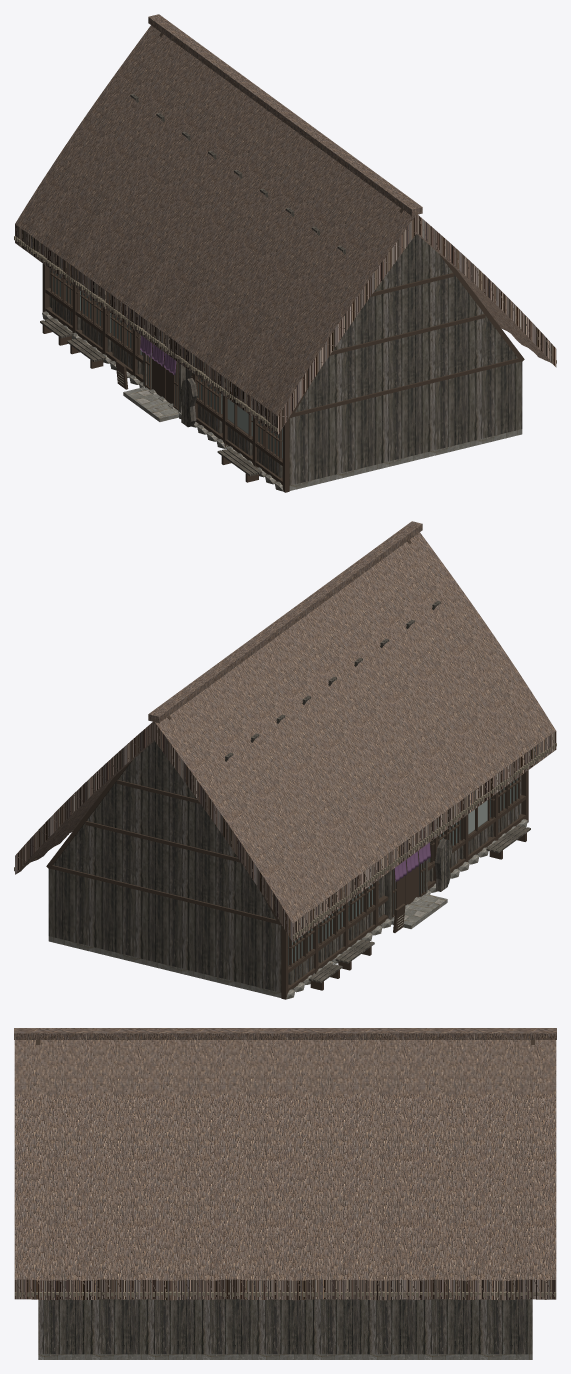
File: hakusuien.glb
The picture shows the model from 3 angles, top to bottom: view 1: azimuth 30°, elevation 25°; view 2: azimuth 150°, elevation 25°; view 3: azimuth 270°, elevation 25°; orthographic projection. The views are drawn at different scales.
Visible parts, largest first — view 1: B001_Bound kaya reeds.040, B001_Smoke-aged cedar.040, B001_Dark structural timber.040, B001_Hakusuien warm cedar infill.002, B001_Foundation granite.040, B001_Weathered cut reed ends.002, B001_Hakusuien dark recessed glazing.002; view 2: B001_Bound kaya reeds.040, B001_Smoke-aged cedar.040, B001_Dark structural timber.040, B001_Hakusuien warm cedar infill.002, B001_Foundation granite.040, B001_Weathered cut reed ends.002, B001_Hakusuien dark recessed glazing.002; view 3: B001_Bound kaya reeds.040, B001_Smoke-aged cedar.040, B001_Foundation granite.040, B001_Weathered cut reed ends.002.
Boxes of the visible parts, bbox=[...] form: B001_Bound kaya reeds.040: bbox=[15, 14, 556, 434]; B001_Smoke-aged cedar.040: bbox=[49, 93, 522, 485]; B001_Dark structural timber.040: bbox=[42, 32, 524, 492]; B001_Hakusuien warm cedar infill.002: bbox=[40, 297, 282, 477]; B001_Foundation granite.040: bbox=[42, 311, 522, 491]; B001_Weathered cut reed ends.002: bbox=[14, 236, 556, 431]; B001_Hakusuien dark recessed glazing.002: bbox=[53, 271, 282, 458]; B001_Bound kaya reeds.040: bbox=[15, 521, 556, 942]; B001_Smoke-aged cedar.040: bbox=[48, 601, 521, 992]; B001_Dark structural timber.040: bbox=[46, 540, 528, 999]; B001_Hakusuien warm cedar infill.002: bbox=[288, 805, 530, 984]; B001_Foundation granite.040: bbox=[48, 819, 527, 999]; B001_Weathered cut reed ends.002: bbox=[14, 743, 556, 939]; B001_Hakusuien dark recessed glazing.002: bbox=[288, 778, 517, 965]; B001_Bound kaya reeds.040: bbox=[14, 1028, 556, 1300]; B001_Smoke-aged cedar.040: bbox=[38, 1299, 532, 1354]; B001_Foundation granite.040: bbox=[38, 1354, 532, 1359]; B001_Weathered cut reed ends.002: bbox=[14, 1291, 556, 1297].
Size of the model in its own units: 12.18 by 10.87 by 19.59.
Materials: 10 (4 with a texture image).
